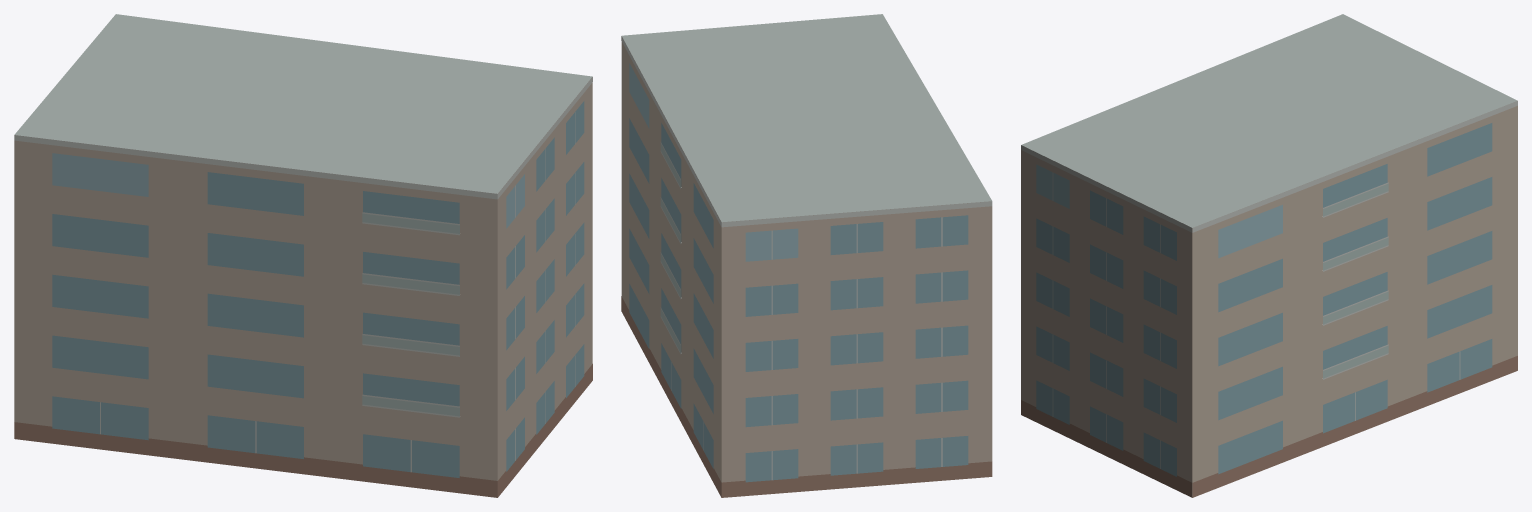
Rendered from survey-upis-32951507.glb.
The picture shows the model from 3 angles, left to right: view 1: azimuth 30°, elevation 25°; view 2: azimuth 150°, elevation 25°; view 3: azimuth 270°, elevation 25°; orthographic projection. The views are drawn at different scales.
Visible parts, largest first — view 1: survey-upis-32951507.tmp; view 2: survey-upis-32951507.tmp; view 3: survey-upis-32951507.tmp.
Part boxes in pixels (x1=…): survey-upis-32951507.tmp: x1=14, y1=14, x2=592, y2=497; survey-upis-32951507.tmp: x1=621, y1=14, x2=992, y2=497; survey-upis-32951507.tmp: x1=1021, y1=14, x2=1517, y2=497.
Size of the model in its own units: 22.44 by 13.2 by 22.02.
